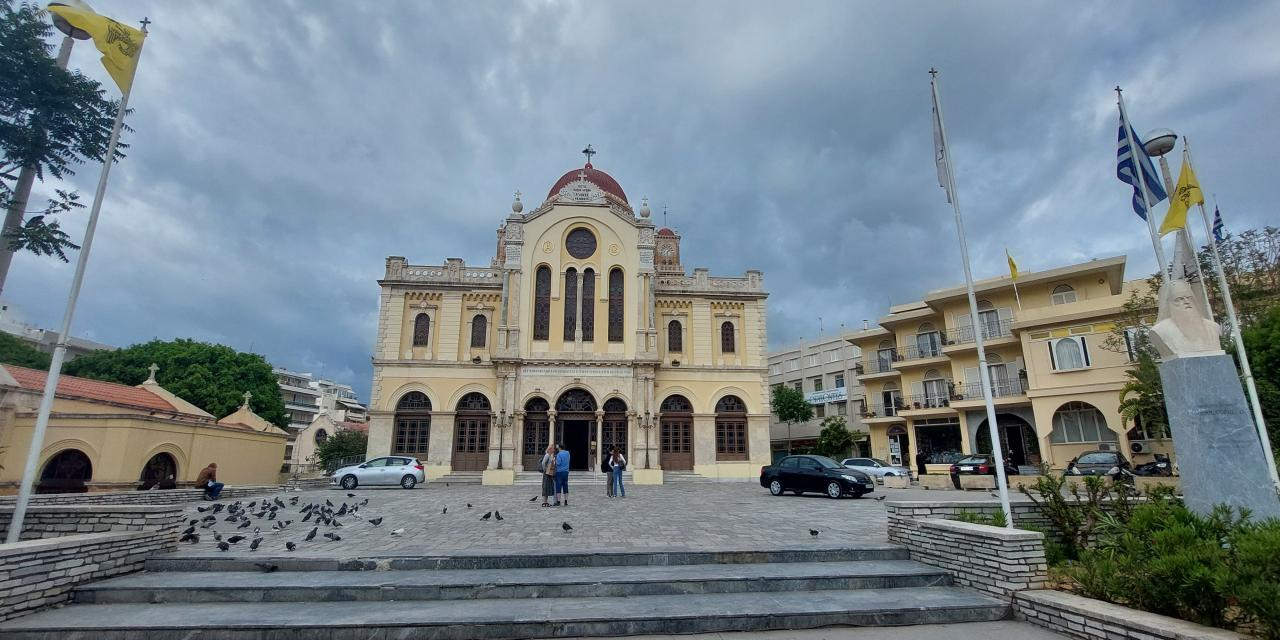Agios Minas: (361, 143, 776, 488)
